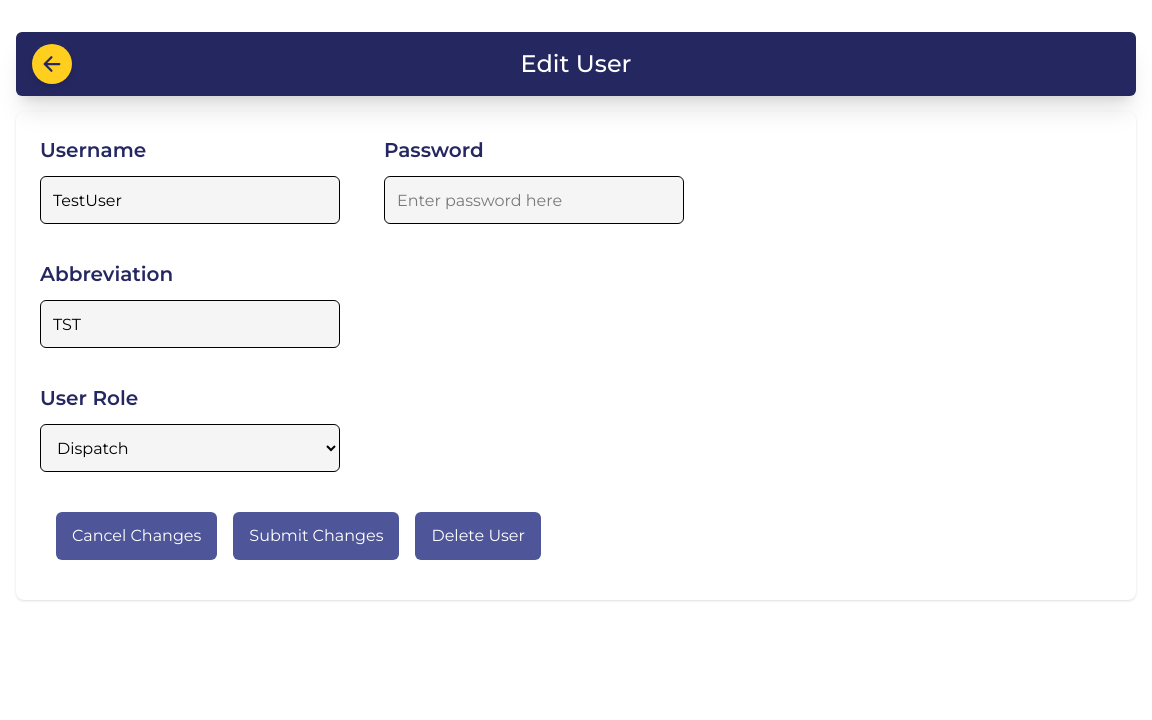
Scenario: EditUser Integration Test › shows abbreviation validation error when length is not 3
Replace the text in the field with placeholder "Enter 3 character abbreviation here" below "Abbreviation" with "ABC" at (190, 324), box [40,300,340,348]
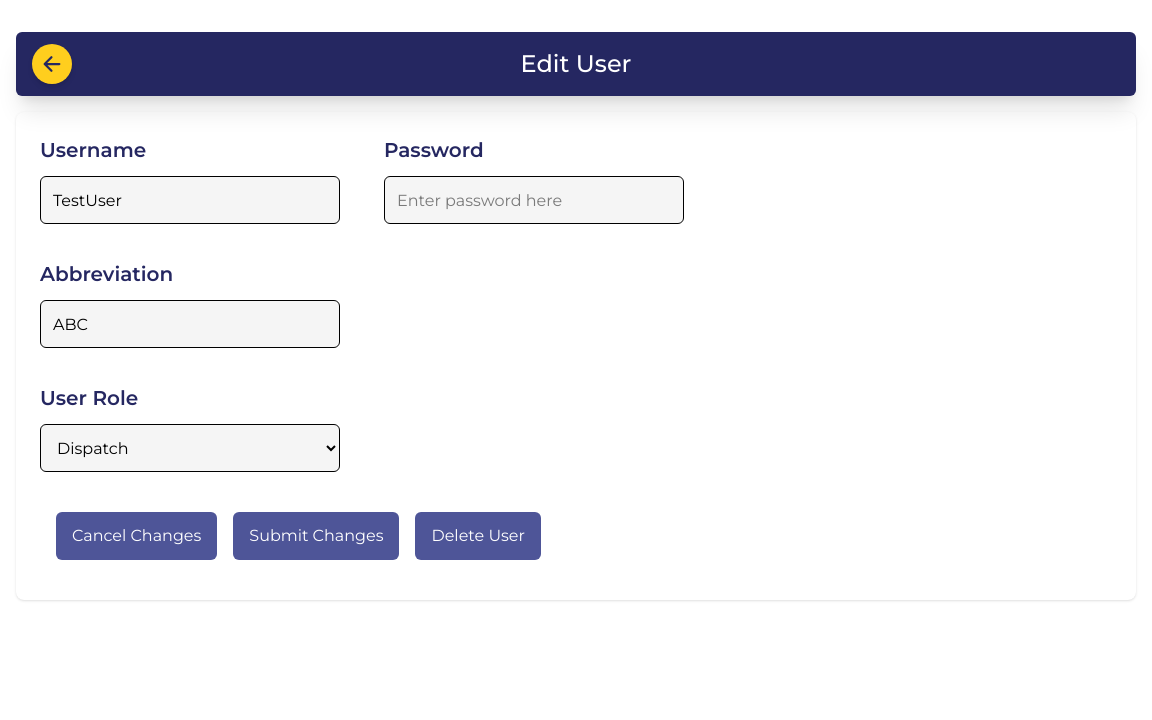
Replace the text in the field with placeholder "Enter 3 character abbreviation here" below "Abbreviation" with "ABCD" at (190, 324), box [40,300,340,348]
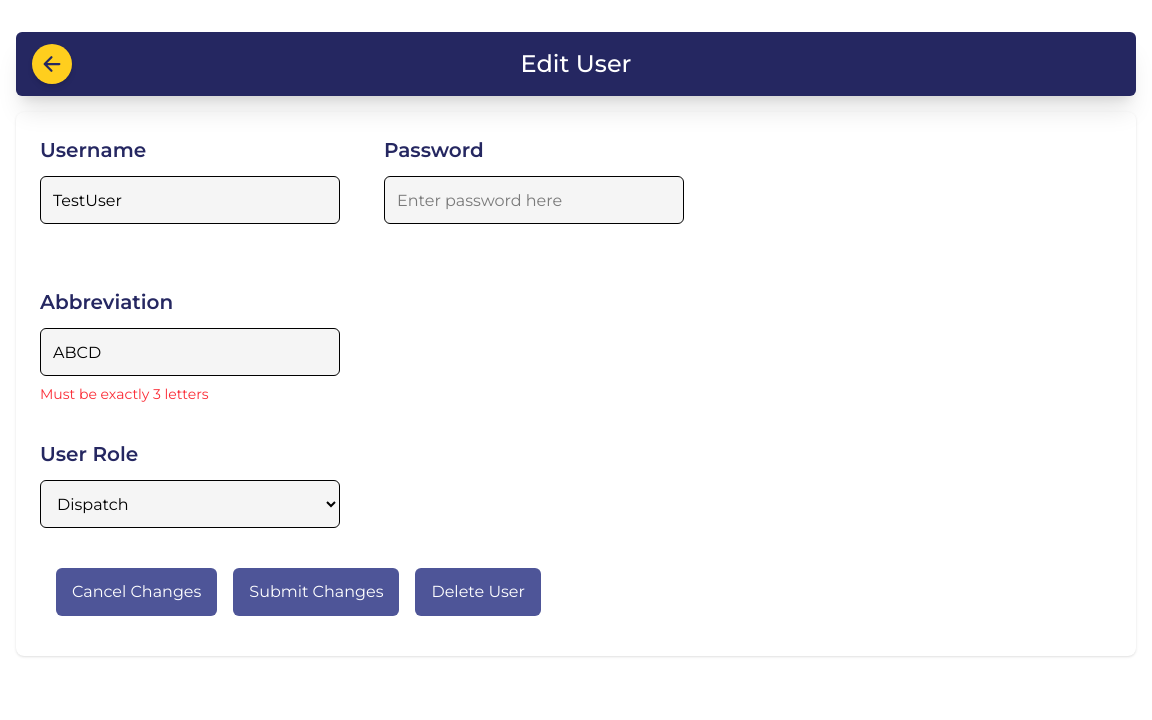
expect the text "Must be exactly 3 letters" is shown: met, box [40,385,209,403]
